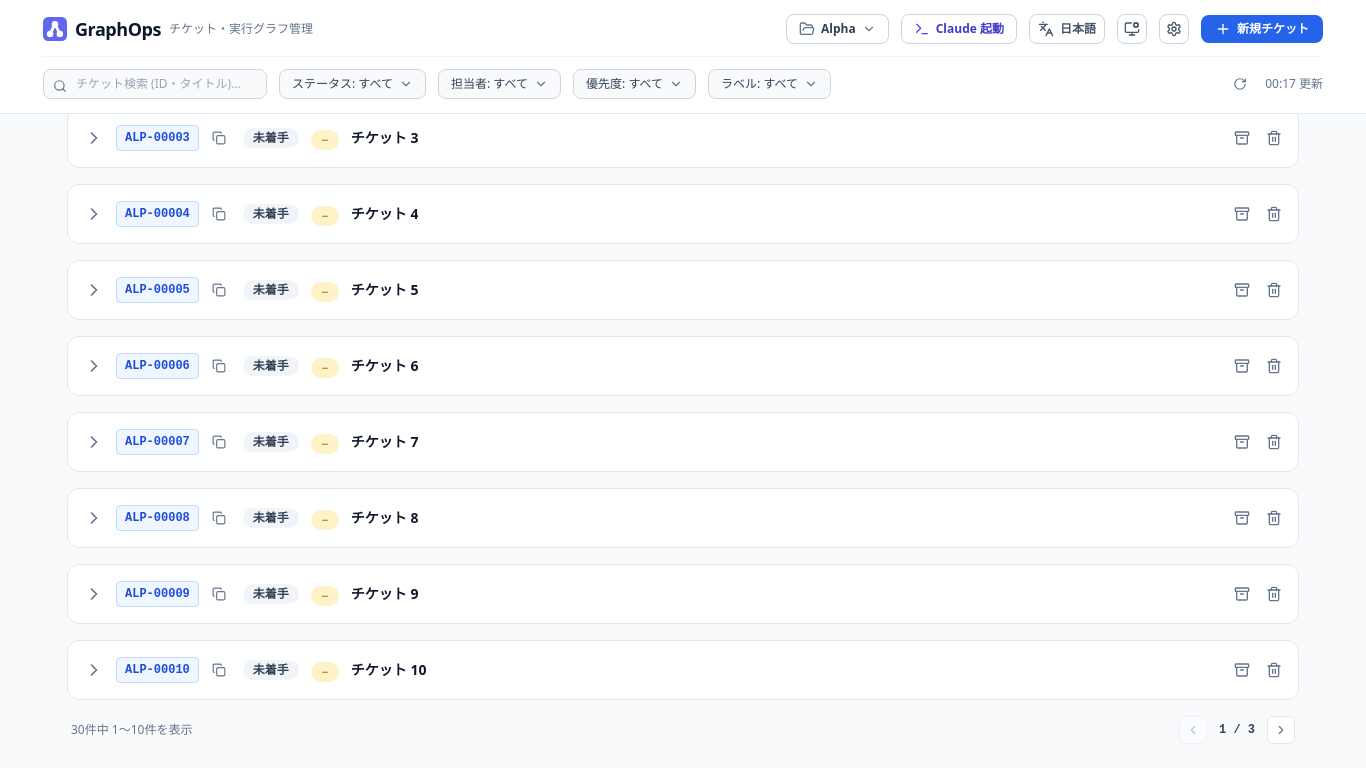
Test: App icon accessibility › names the pager buttons and hides their chevrons
This screenshot has width=1366, height=768.
(page scrolled)
Expected: the button named "前のページ" is disabled, [1179, 716, 1207, 744]
Click the button named "次のページ". click: (1281, 730)
box: [1267, 716, 1295, 744]
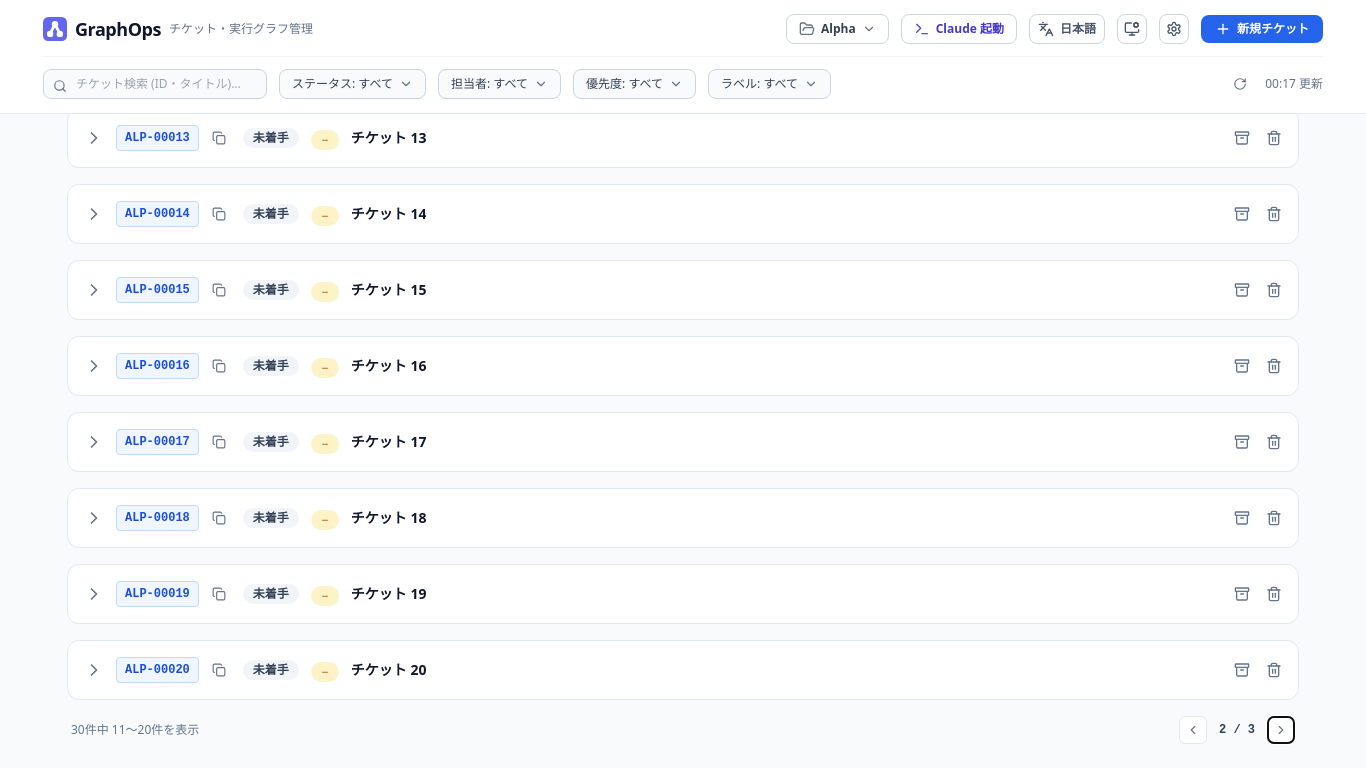
Click the button named "前のページ". click: (1193, 730)
box: [1179, 716, 1207, 744]
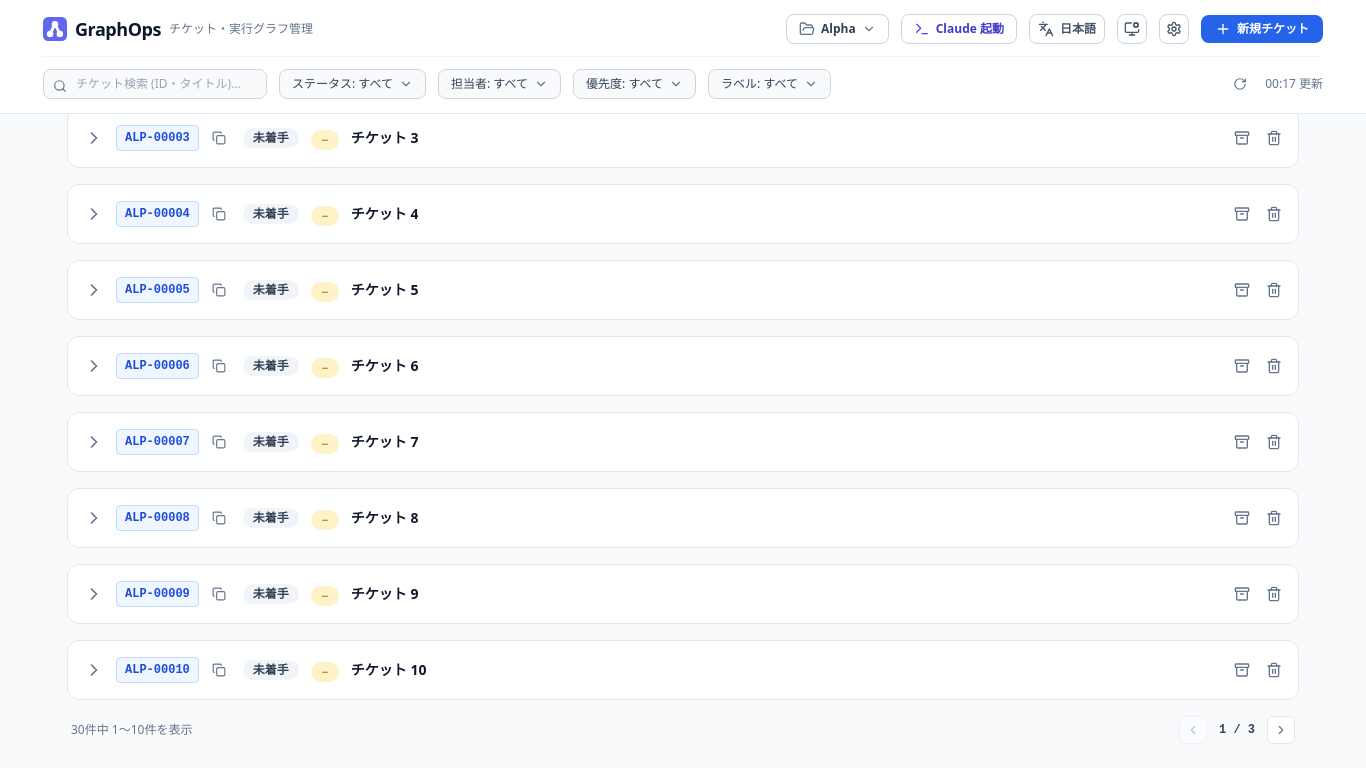
Expected: the text "1 / 3" is shown, [1219, 722, 1255, 738]
